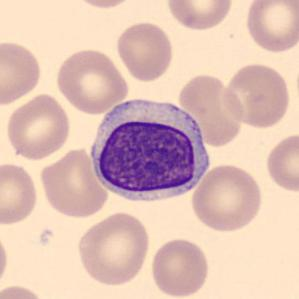Lymphocyte: (86, 89, 214, 203)
RBC: (74, 210, 152, 288), (189, 162, 265, 234), (53, 46, 131, 115), (38, 145, 110, 219), (176, 72, 246, 148), (220, 61, 293, 129), (5, 92, 72, 162), (149, 236, 212, 298), (115, 20, 175, 82), (0, 38, 44, 107), (243, 0, 299, 54), (0, 160, 41, 227), (164, 0, 234, 32), (264, 131, 298, 194), (0, 282, 50, 299), (69, 0, 139, 10), (0, 229, 11, 290)
